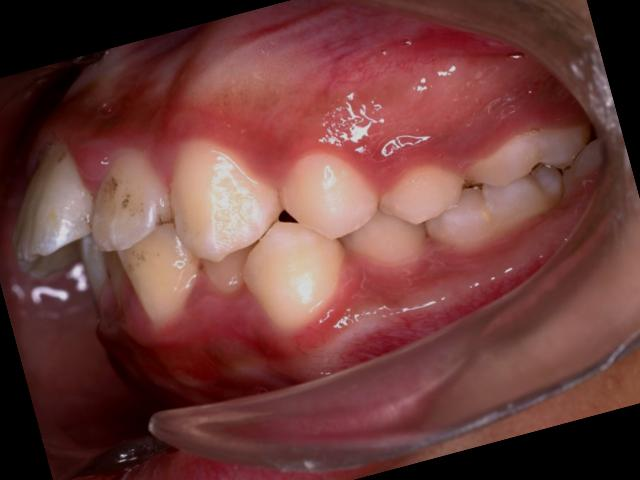canine class II 1/2: (141, 98, 360, 364)
molar class III 1/2: (409, 111, 616, 262)
